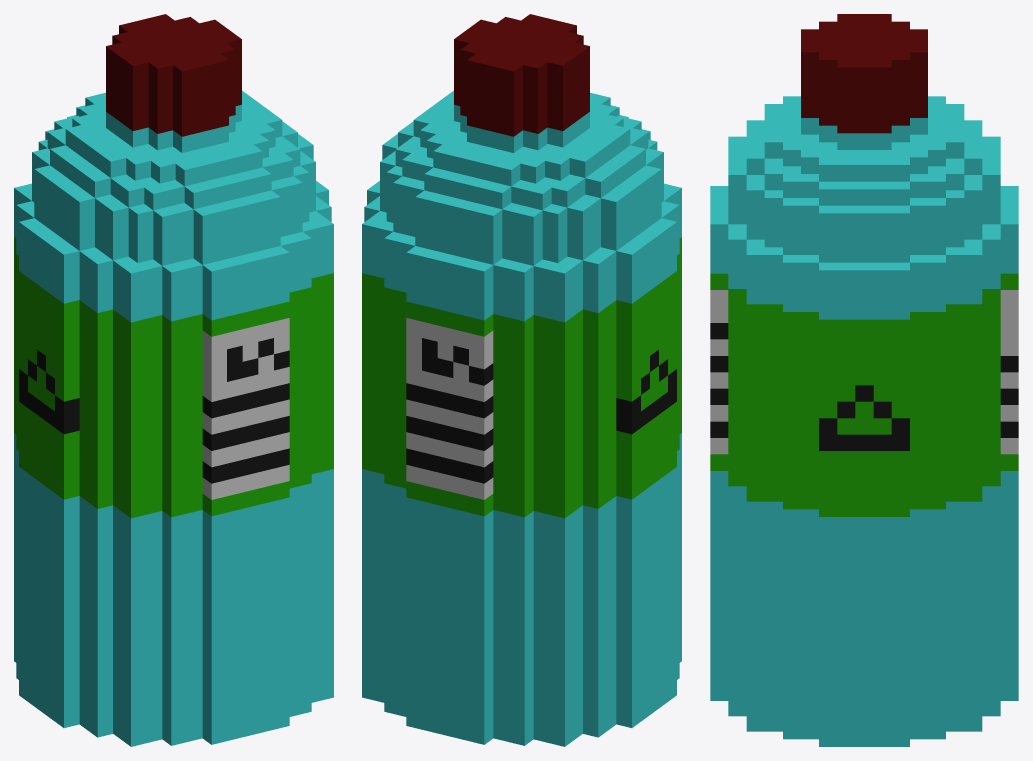
The model's file is Flasche2.obj.
3 renders of one model, left to right at view 1: azimuth 30°, elevation 25°; view 2: azimuth 150°, elevation 25°; view 3: azimuth 270°, elevation 25°, orthographic.
Bounding box in the file's own units: 1.7 × 3.9 × 1.7.
1 material, 1 textured.
